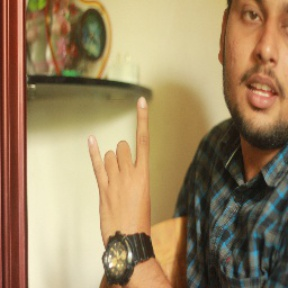V: (85, 94, 168, 247)
